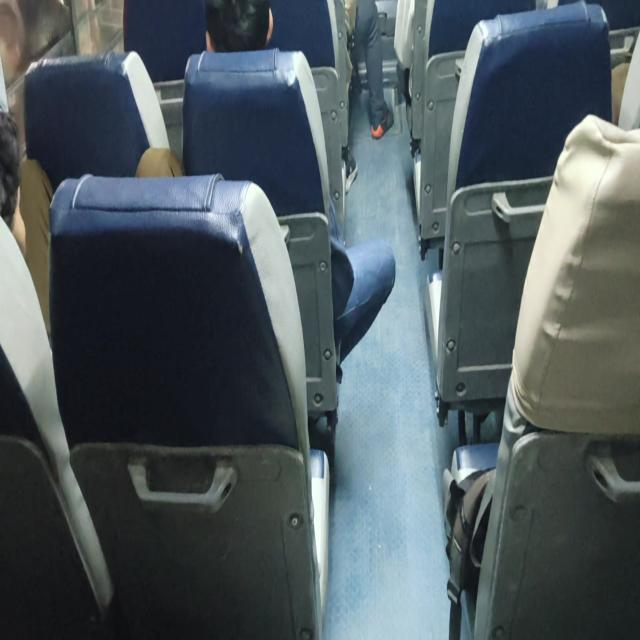person: (198, 0, 272, 56), (0, 116, 28, 250)
